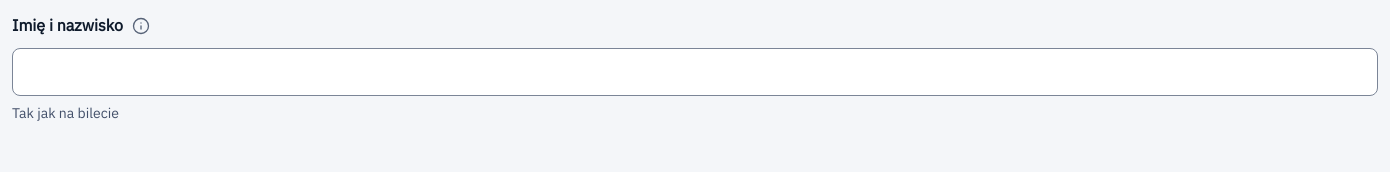
Test: TextInput with a character allowlist › filters pasted text and canonicalizes apostrophes
Click the field labelled "Imię i nazwisko" at coordinates (695, 72), box [12,48,1378,96]
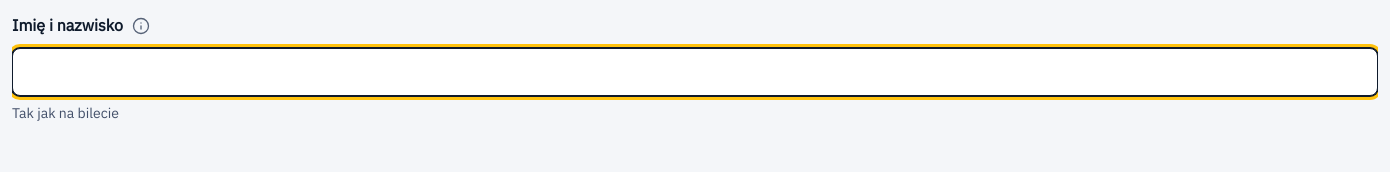
Type keys "Seán O’Neil ★"
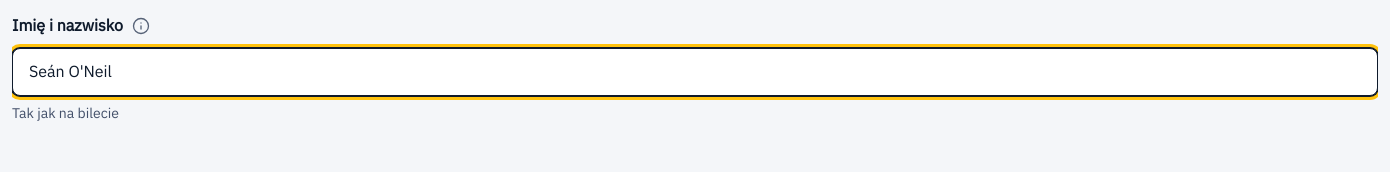
Check: the field labelled "Imię i nazwisko" holds "Seán O'Neil ", box [12,48,1378,96]
